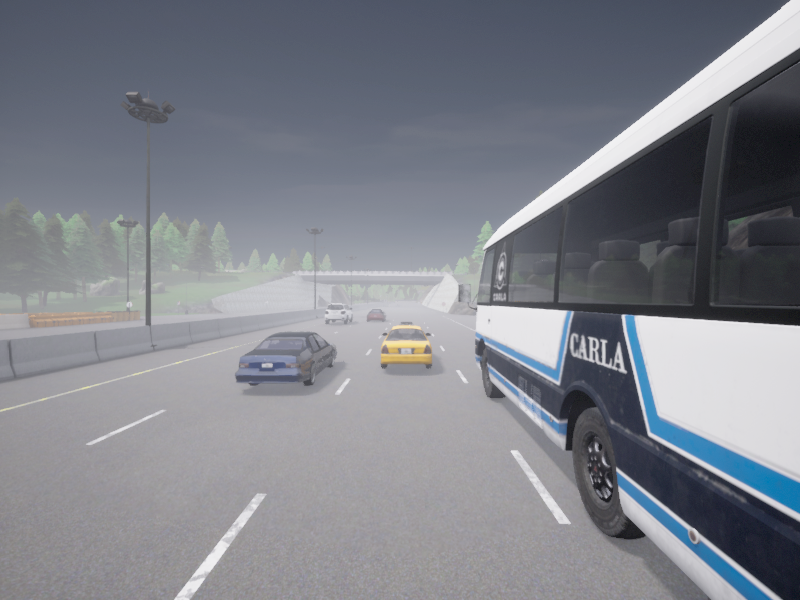vehicle: (459, 0, 799, 599), (235, 332, 336, 385), (380, 322, 431, 368), (325, 304, 352, 323), (367, 309, 385, 321)
